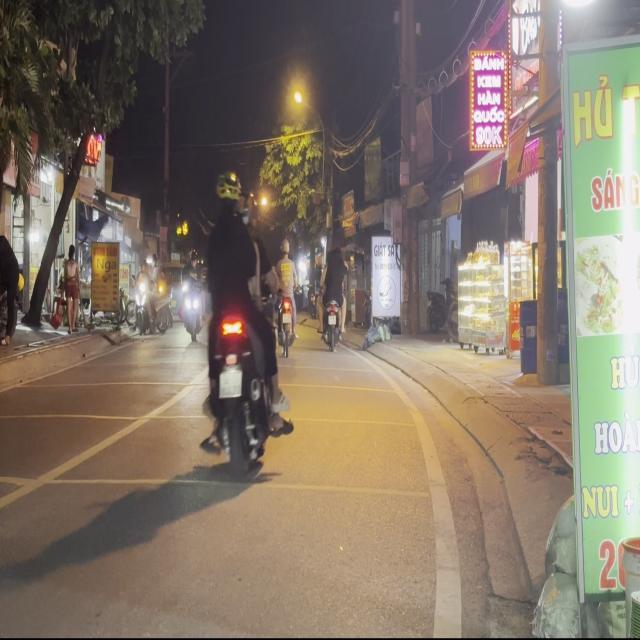helmet: (215, 168, 244, 226)
licenseplate: (197, 165, 289, 480)
nohelmet: (219, 369, 241, 397)
